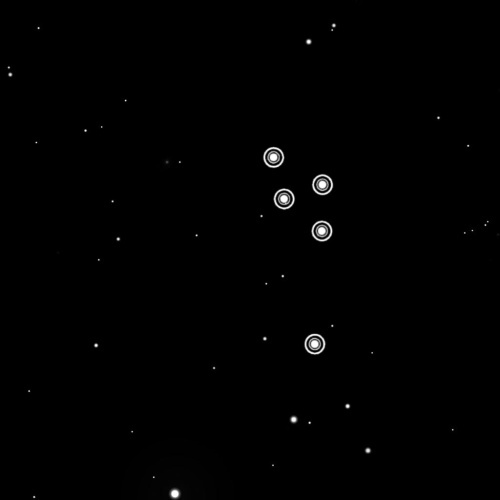delphinus: (252, 133, 340, 364)
